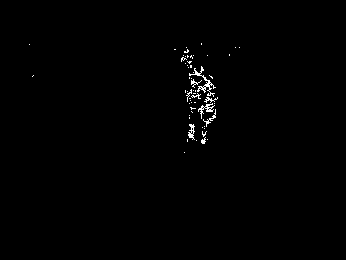person: (185, 63, 206, 140), (199, 71, 218, 147)
